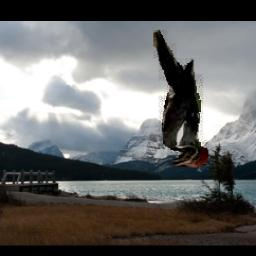Woodpecker: (153, 31, 208, 168)
